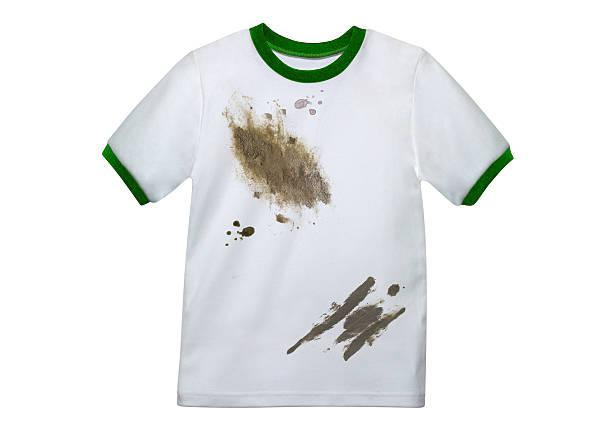gun: (211, 97, 339, 241), (288, 267, 412, 366)
